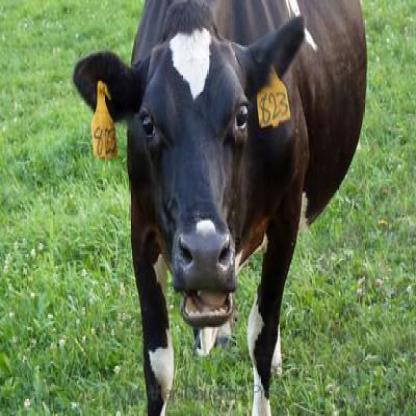lower: (194, 312, 220, 328)
mouth: (171, 227, 240, 330)
upper: (197, 247, 214, 271)
